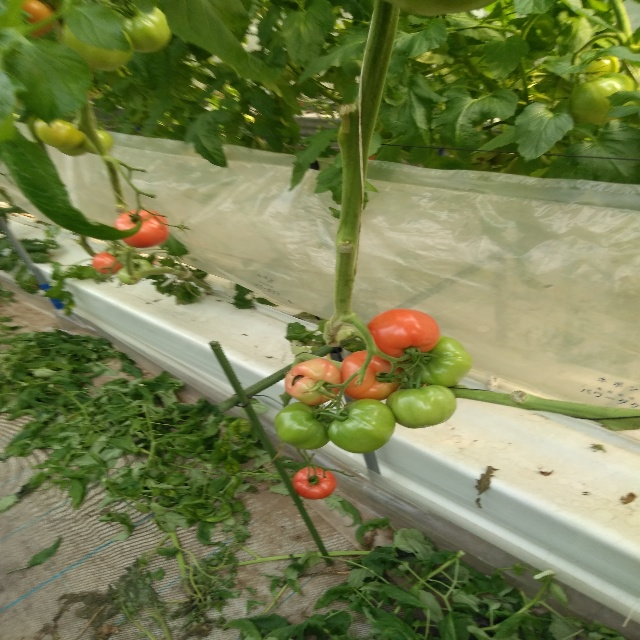b_fully_ripened: (366, 309, 441, 360), (114, 210, 169, 248), (292, 466, 337, 500), (92, 252, 124, 275)
b_green: (399, 335, 474, 387), (62, 21, 134, 73), (328, 398, 396, 453), (569, 71, 636, 123), (384, 384, 457, 429), (273, 402, 336, 450), (116, 3, 172, 53), (34, 116, 87, 149), (82, 129, 113, 155)
b_half_ripened: (340, 350, 406, 401), (285, 358, 341, 405)
